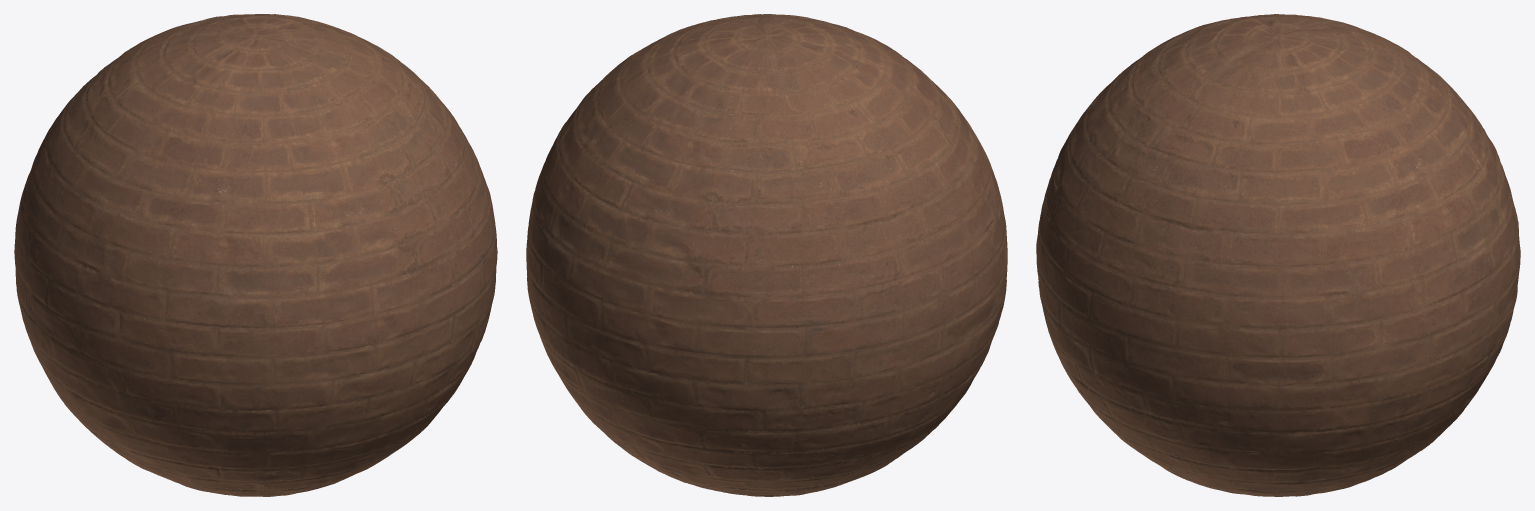
File: stenciled_brick_floor_1k.gltf
3 views of the same model, side by side, from view 1: azimuth 30°, elevation 25°; view 2: azimuth 150°, elevation 25°; view 3: azimuth 270°, elevation 25° (orthographic).
Parts seen in each view (by area): view 1: sphere_gltf; view 2: sphere_gltf; view 3: sphere_gltf.
Part boxes in pixels (<box>): sphere_gltf: <box>14,14,497,496</box>; sphere_gltf: <box>526,14,1007,496</box>; sphere_gltf: <box>1036,14,1520,496</box>.
Bounding box in the file's own units: 1.93 × 1.93 × 1.93.
Materials: 1 (1 with a texture image).
